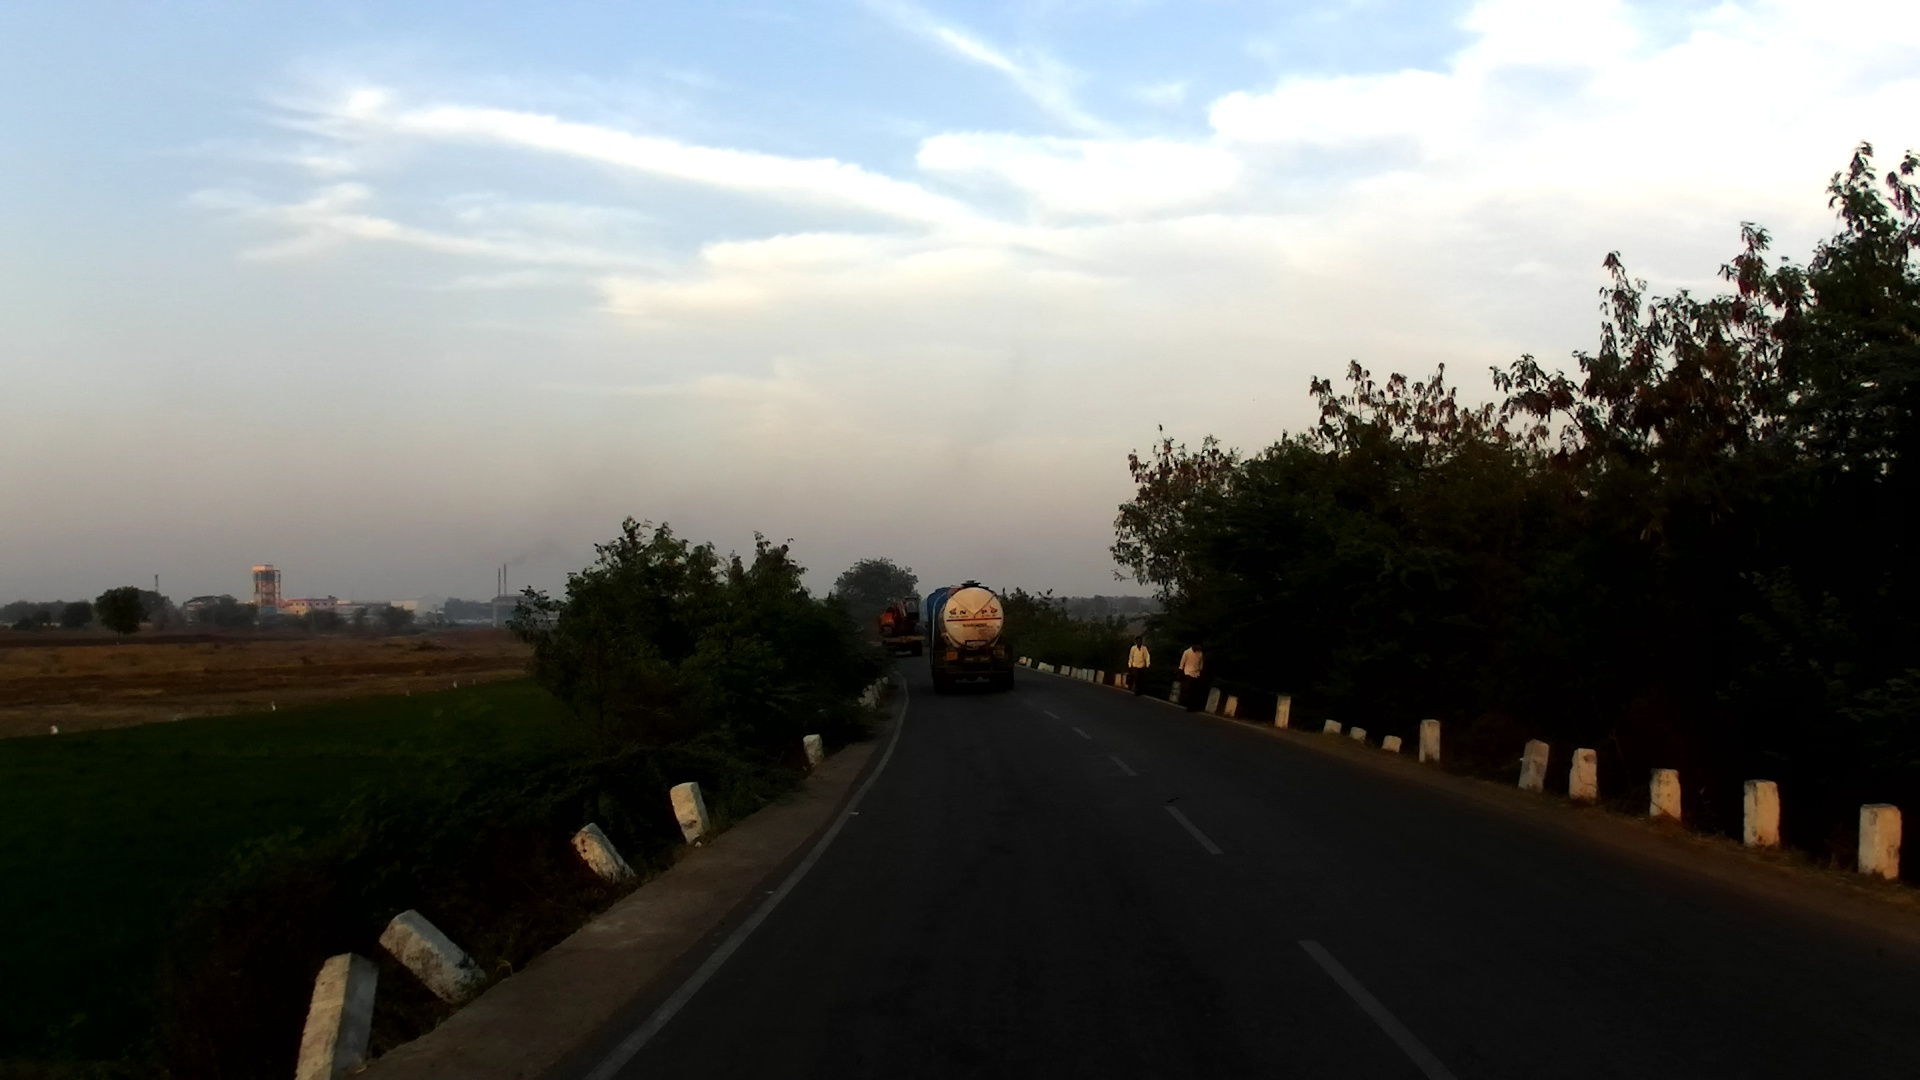person: (1179, 640, 1209, 711), (1125, 633, 1152, 700)
truck: (923, 583, 1020, 702), (873, 594, 929, 659)
